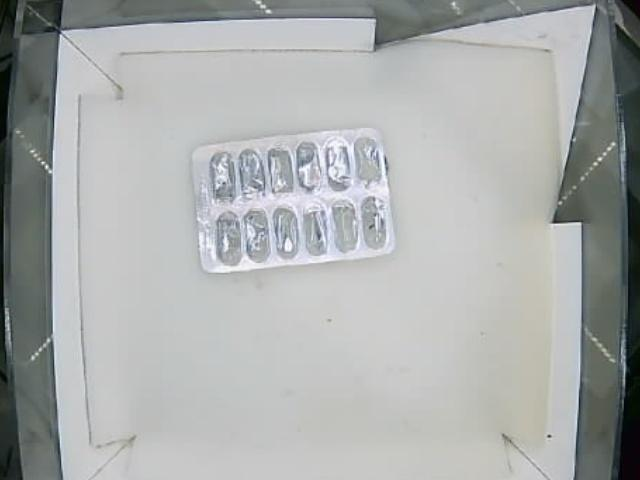Medicine: (192, 123, 395, 271)
